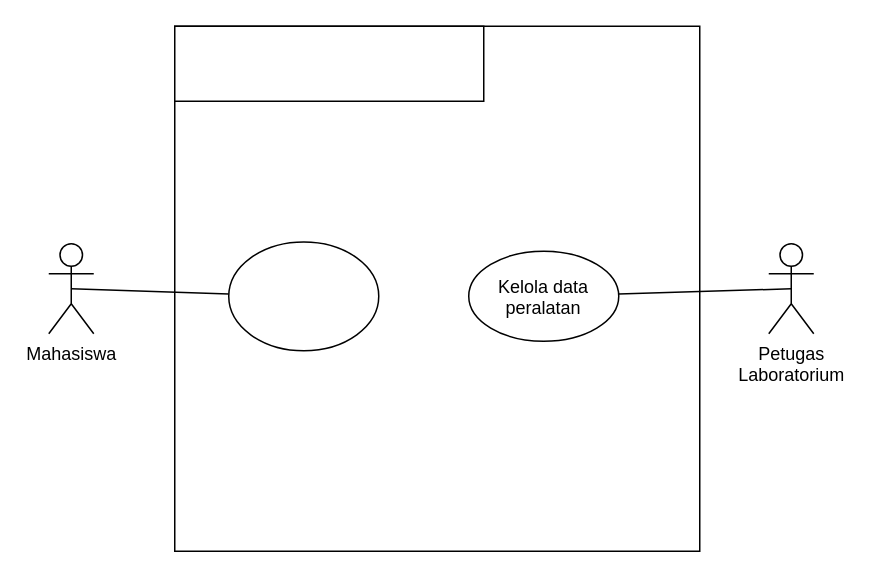
Some shapes in this 870 by 578 pixel diagram are drawn without their labels. Each missing label, with the centre of its shape:
"lihat ketersediaan peralatan" goes at [303,295].
"Sistem Informasi peminjaman dan pengambilan peralatan laboratorium kampus" goes at [328,63].
